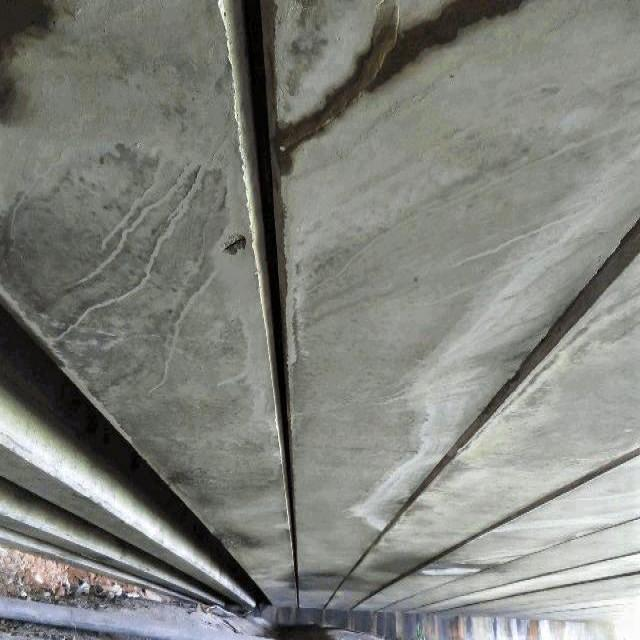Rebar: (219, 232, 246, 253)
